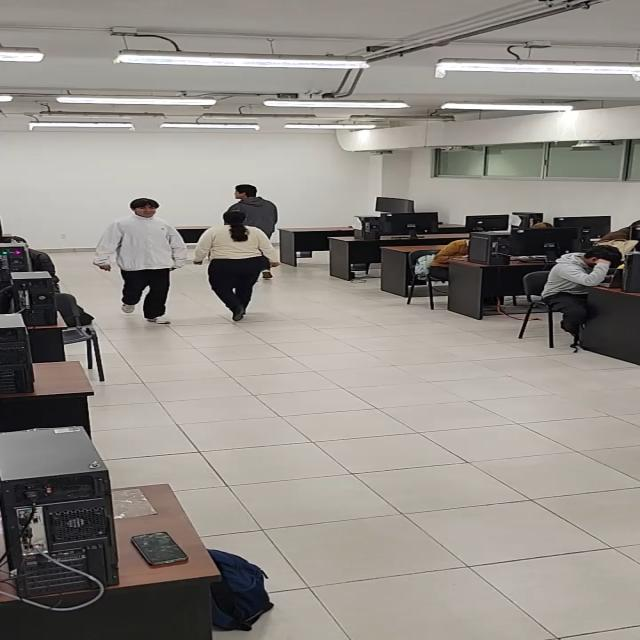Persona: (92, 197, 186, 325), (192, 210, 281, 321), (223, 184, 279, 242)
